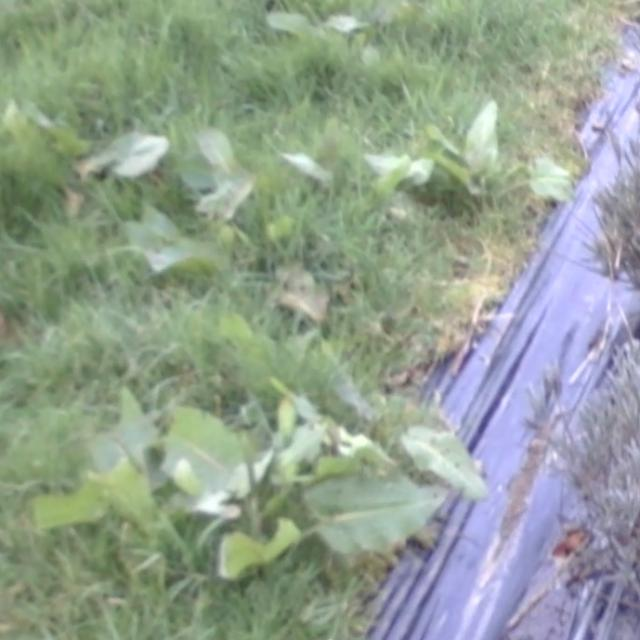organic waste: (27, 361, 474, 606), (155, 383, 456, 589), (134, 141, 294, 297), (24, 100, 192, 208), (354, 129, 548, 215), (420, 88, 523, 200), (253, 0, 416, 66), (246, 118, 342, 210)
